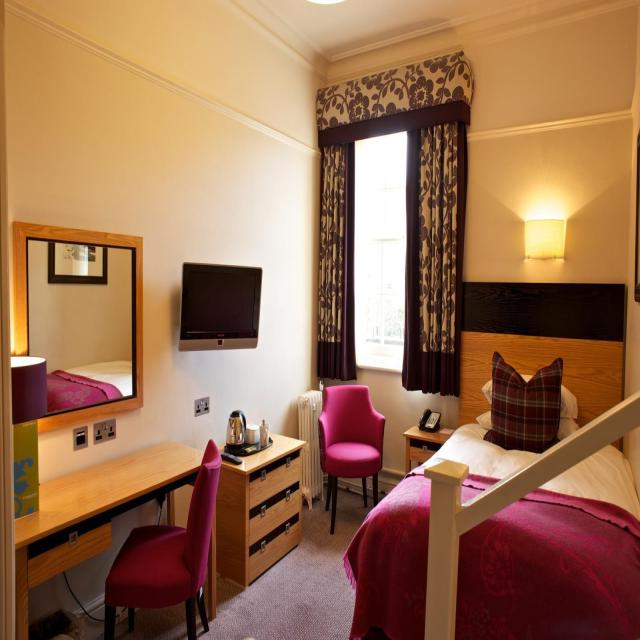other: (497, 166, 586, 248)
